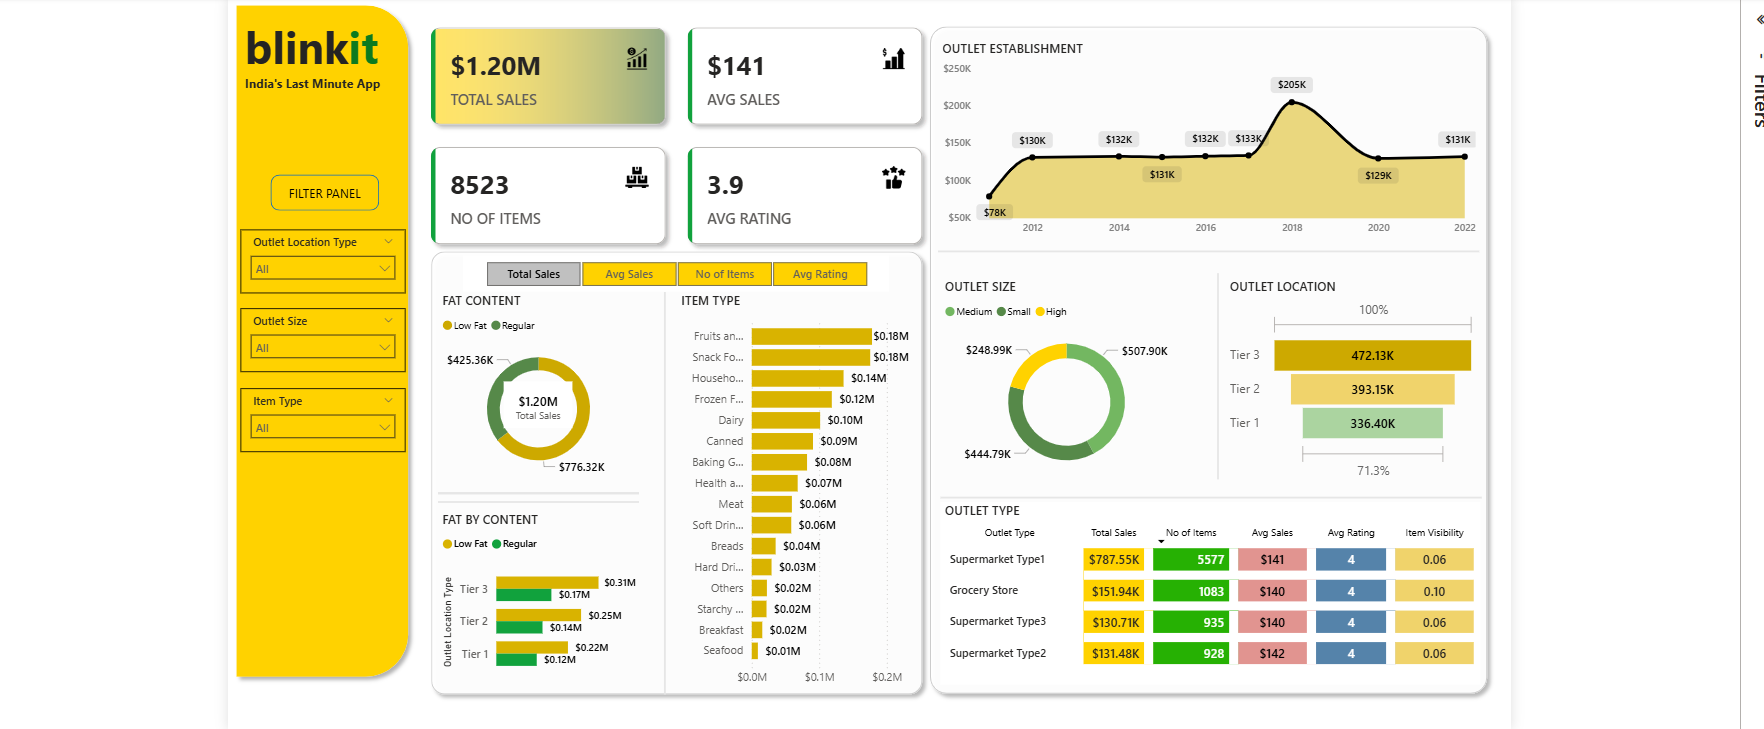

The dashboard page shown, as its layout file describes it:
{"tool":"powerbi","page":{"name":"Page 1","canvas":[1400,800],"ordinal":0},"visuals":[{"type":"shape","box":[0,0,205.6,750.4],"z":0},{"type":"textbox","box":[13.5,16.5,175.6,100.6],"z":1000},{"type":"cardVisual","fields":{"Data":["BlinkIT Grocery Data.Total Sales","BlinkIT Grocery Data.Avg Sales","BlinkIT Grocery Data.No of Items","BlinkIT Grocery Data.Avg Rating"]},"box":[205,16.2,570,270],"z":2000},{"type":"shape","box":[212.7,268.6,553.5,501],"z":3000},{"type":"donutChart","title":"FAT CONTENT","fields":{"Y":["BlinkIT Grocery Data.Total Sales"],"Category":["BlinkIT Grocery Data.Item Fat Content"]},"box":[229,321.7,219.5,210],"z":4000},{"type":"slicer","fields":{"Values":["Metrics.Metrics"]},"box":[256.3,282.2,464.9,39.5],"z":5000},{"type":"cardVisual","fields":{"Data":["BlinkIT Grocery Data.Total Sales"]},"box":[295.8,414.5,85.9,61.4],"z":6000},{"type":"clusteredBarChart","title":"FAT BY CONTENT","fields":{"Y":["BlinkIT Grocery Data.Total Sales"],"Category":["BlinkIT Grocery Data.Outlet Location Type"],"Series":["BlinkIT Grocery Data.Item Fat Content"]},"box":[229,560.3,220.9,189.5],"z":7000},{"type":"shape","box":[229,531.7,219.5,19.1],"z":8000},{"type":"shape","box":[229,531.7,219.5,19.1],"z":9000},{"type":"shape","box":[229,531.7,219.5,19.1],"z":10000},{"type":"shape","box":[229,531.7,219.5,19.1],"z":11000},{"type":"shape","box":[229,541.2,219.5,19.1],"z":12000},{"type":"shape","box":[448.5,321.7,55.9,439],"z":13000},{"type":"barChart","title":"ITEM TYPE","fields":{"Y":["BlinkIT Grocery Data.Total Sales"],"Category":["BlinkIT Grocery Data.Item Type"]},"box":[489.4,321.7,275.4,439],"z":14000},{"type":"shape","box":[756.7,23.2,625.8,745.7],"z":15000},{"type":"lineChart","title":"OUTLET ESTABLISHMENT","fields":{"Y":["BlinkIT Grocery Data.Total Sales"],"Category":["BlinkIT Grocery Data.Outlet Establishment Year"]},"box":[774.4,46.4,591.7,222.2],"z":16000},{"type":"shape","box":[774.4,272.7,590.3,9.5],"z":17000},{"type":"donutChart","title":"OUTLET SIZE","fields":{"Y":["BlinkIT Grocery Data.Total Sales"],"Category":["BlinkIT Grocery Data.Outlet Size"]},"box":[777.1,306.8,275.4,225],"z":18000},{"type":"shape","box":[1071.6,301.3,16.4,225],"z":19000},{"type":"funnel","title":"OUTLET LOCATION","fields":{"Category":["BlinkIT Grocery Data.Outlet Location Type"],"Y":["Sum(BlinkIT Grocery Data.Sales)"]},"box":[1087.9,306.8,278.1,225],"z":20000},{"type":"shape","box":[777.1,541.2,590.3,9.5],"z":21000},{"type":"pivotTable","title":"OUTLET TYPE","fields":{"Rows":["BlinkIT Grocery Data.Outlet Type"],"Values":["BlinkIT Grocery Data.Total Sales","BlinkIT Grocery Data.No of Items","BlinkIT Grocery Data.Avg Sales","BlinkIT Grocery Data.Avg Rating","Avg(BlinkIT Grocery Data.Item Visibility)"]},"box":[777.1,550.8,589,199],"z":22000},{"type":"slicer","fields":{"Values":["BlinkIT Grocery Data.Outlet Location Type"]},"box":[13.6,253.6,180,69.5],"z":23000},{"type":"slicer","fields":{"Values":["BlinkIT Grocery Data.Outlet Size"]},"box":[13.6,339.5,180,69.5],"z":24000},{"type":"slicer","fields":{"Values":["BlinkIT Grocery Data.Item Type"]},"box":[13.6,426.7,180,69.5],"z":25000},{"type":"shape","box":[46.4,193.6,118.6,39.5],"z":26000}]}

Visuals, with their boxes on the page's 1400x800 design canvas (x1, y1, x2, y2). These are canvas units, not pixel positions in the 1764x729 screenshot, which may show the page scaled, cropped or inside an application window:
shape: BBox(0, 0, 206, 750)
textbox: BBox(14, 16, 189, 117)
cardVisual - BlinkIT Grocery Data.Total Sales x BlinkIT Grocery Data.Avg Sales: BBox(205, 16, 775, 286)
shape: BBox(213, 269, 766, 770)
"FAT CONTENT" donutChart: BBox(229, 322, 448, 532)
slicer - Metrics.Metrics: BBox(256, 282, 721, 322)
cardVisual - BlinkIT Grocery Data.Total Sales: BBox(296, 414, 382, 476)
"FAT BY CONTENT" clusteredBarChart: BBox(229, 560, 450, 750)
shape: BBox(229, 532, 448, 551)
shape: BBox(229, 532, 448, 551)
shape: BBox(229, 532, 448, 551)
shape: BBox(229, 532, 448, 551)
shape: BBox(229, 541, 448, 560)
shape: BBox(448, 322, 504, 761)
"ITEM TYPE" barChart: BBox(489, 322, 765, 761)
shape: BBox(757, 23, 1382, 769)
"OUTLET ESTABLISHMENT" lineChart: BBox(774, 46, 1366, 269)
shape: BBox(774, 273, 1365, 282)
"OUTLET SIZE" donutChart: BBox(777, 307, 1052, 532)
shape: BBox(1072, 301, 1088, 526)
"OUTLET LOCATION" funnel: BBox(1088, 307, 1366, 532)
shape: BBox(777, 541, 1367, 551)
"OUTLET TYPE" pivotTable: BBox(777, 551, 1366, 750)
slicer - BlinkIT Grocery Data.Outlet Location Type: BBox(14, 254, 194, 323)
slicer - BlinkIT Grocery Data.Outlet Size: BBox(14, 340, 194, 409)
slicer - BlinkIT Grocery Data.Item Type: BBox(14, 427, 194, 496)
shape: BBox(46, 194, 165, 233)
